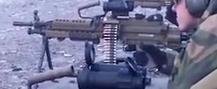gun: (1, 1, 217, 89)
